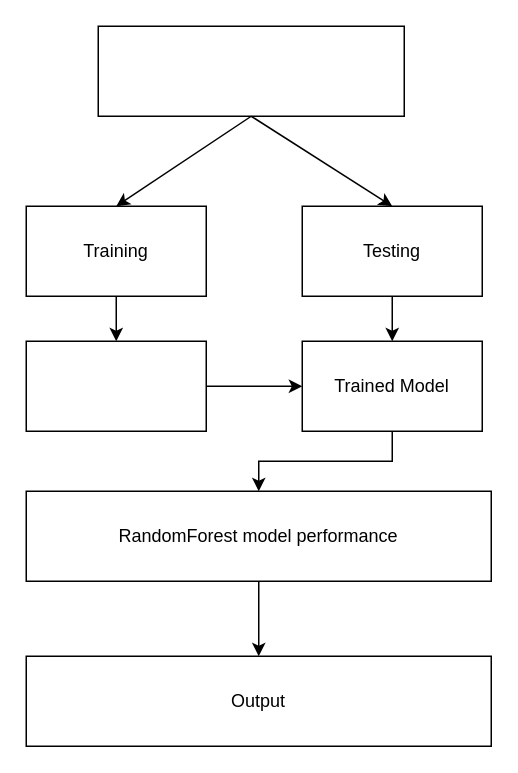
The diagram is 518 pixels wide and 773 high, and some of its shapes have lost their labels. Each missing label, with the centre of its shape:
"input image" belongs at [250,70].
"Training and validation" belongs at [115,385].
